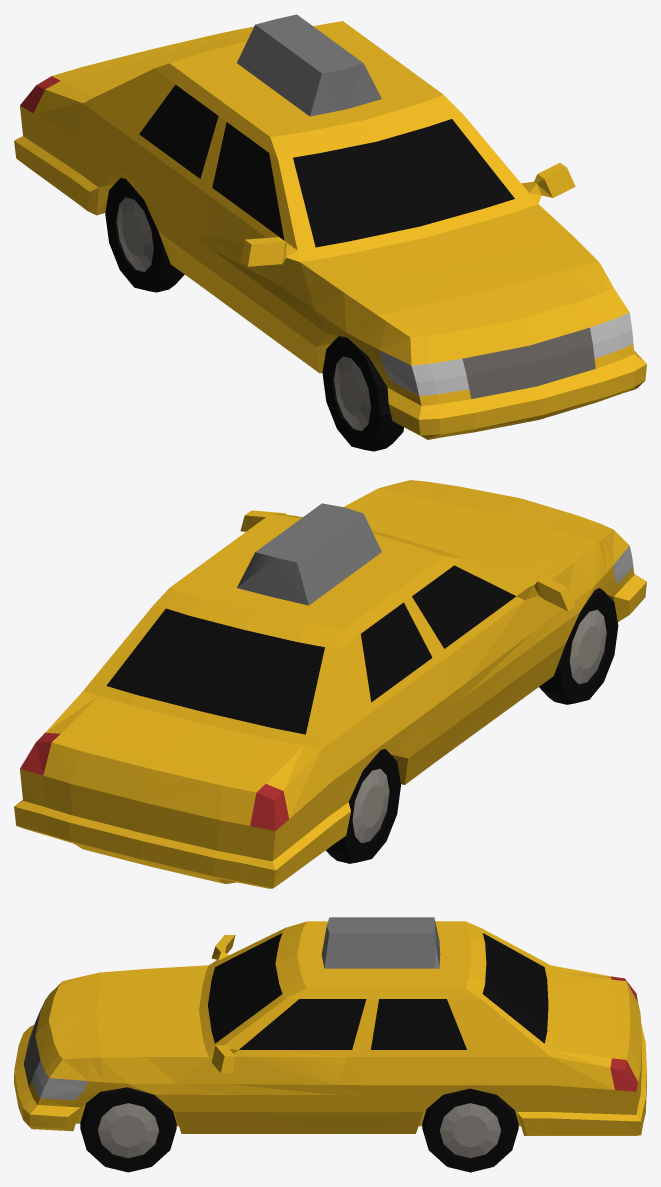
File: test-set.glb
3 views of the same model, one above another, from view 1: azimuth 30°, elevation 25°; view 2: azimuth 150°, elevation 25°; view 3: azimuth 270°, elevation 25° (orthographic). The views are drawn at different scales.
Parts seen in each view (by area): view 1: taxi; view 2: taxi; view 3: taxi.
Part boxes in pixels (x1=…): taxi: x1=14, y1=14, x2=646, y2=451; taxi: x1=14, y1=480, x2=646, y2=888; taxi: x1=14, y1=917, x2=646, y2=1172.
Bounding box in the file's own units: 2.41 × 1.82 × 5.12.
1 material, 1 textured.
